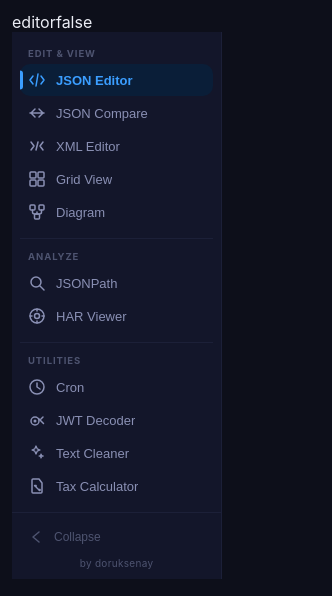
it: Sidebar › switches the active tab when a tool is clicked
This screenshot has width=332, height=596.
Click the button "HAR Viewer" at (116, 316), box x1=20 y1=300 x2=213 y2=332
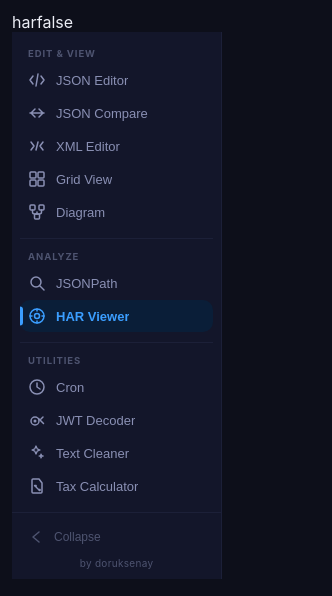
Expected: the text with test id "active-tab" reads "har", x1=12 y1=12 x2=37 y2=32
